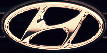Hyundai: (1, 1, 104, 52)
